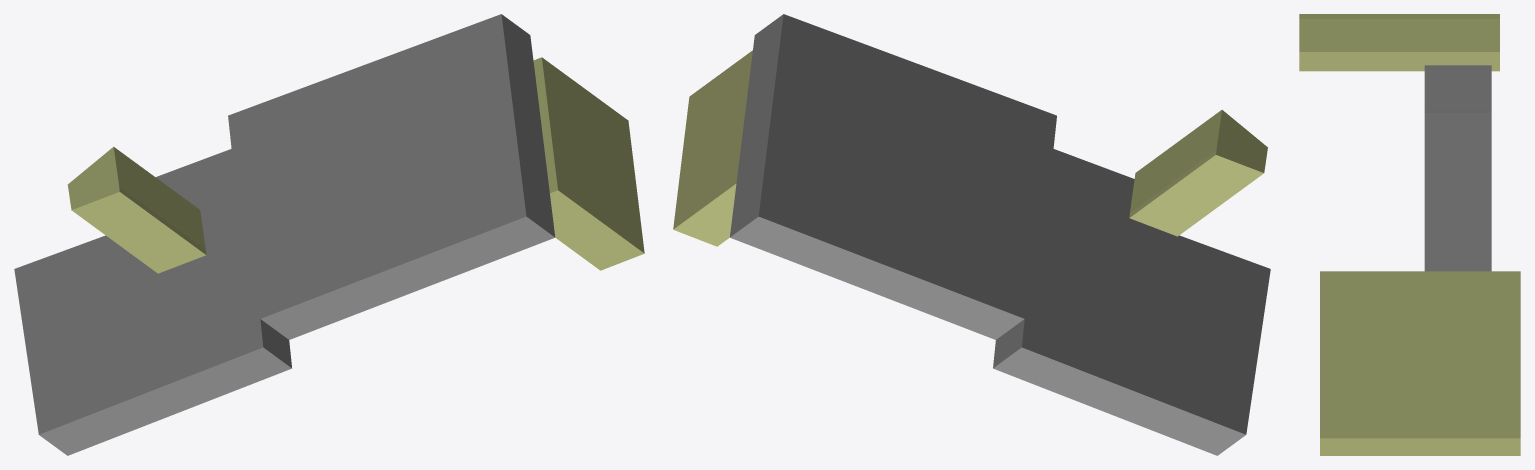
3 renders of one model, left to right at view 1: azimuth 30°, elevation 25°; view 2: azimuth 150°, elevation 25°; view 3: azimuth 270°, elevation 25°, orthographic. The views are drawn at different scales.
Visible parts, largest first — view 1: 0_1_3_2_2_1_0_1_0; view 2: 0_1_3_2_2_1_0_1_0; view 3: 0_1_3_2_2_1_0_1_0.
Part boxes in pixels (x1=…): 0_1_3_2_2_1_0_1_0: x1=14, y1=14, x2=644, y2=455; 0_1_3_2_2_1_0_1_0: x1=673, y1=14, x2=1270, y2=455; 0_1_3_2_2_1_0_1_0: x1=1299, y1=14, x2=1520, y2=455.
Size of the model in its own units: 33.37 by 17.65 by 9.93.
